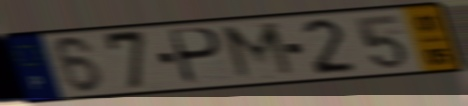2: (299, 16, 363, 78)
5: (351, 12, 413, 71)
6: (53, 34, 107, 95)
7: (100, 29, 151, 94)
M: (218, 20, 302, 84)
P: (168, 26, 226, 87)
